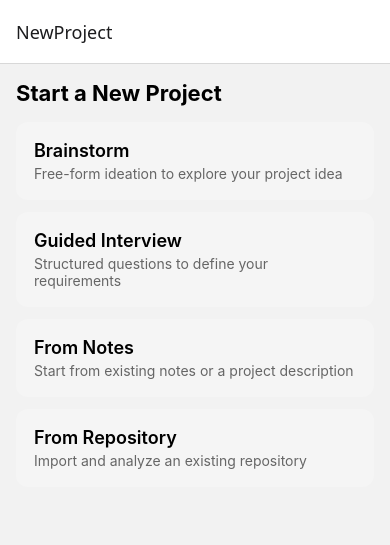
Test: NewProjectScreen › shows error message when startFlow rejects
Click the element with test id "flow-card-brainstorm" at (195, 161), box [16,122,374,200]
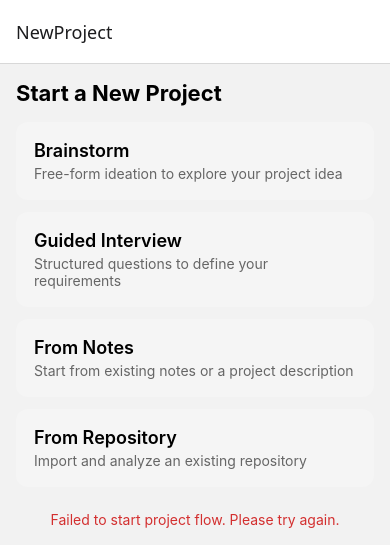
Check: the text "Failed to start project flow. Please try again." is shown, box [50,511,340,528]
